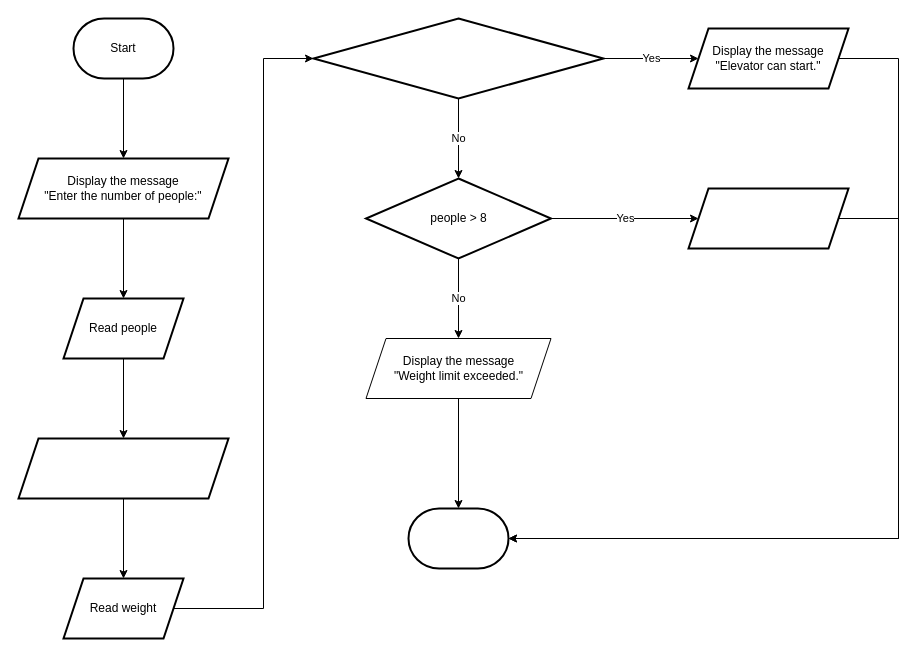
Image size: 924x656. Some labels were removed from this diagram. Each missing label, with the centre of its shape:
Display the message "Enter the total weight: ": (x=123, y=468)
Display the message "Too many people.": (x=768, y=218)
End: (x=458, y=538)
people <= 8 and weight <= 600: (x=458, y=58)
